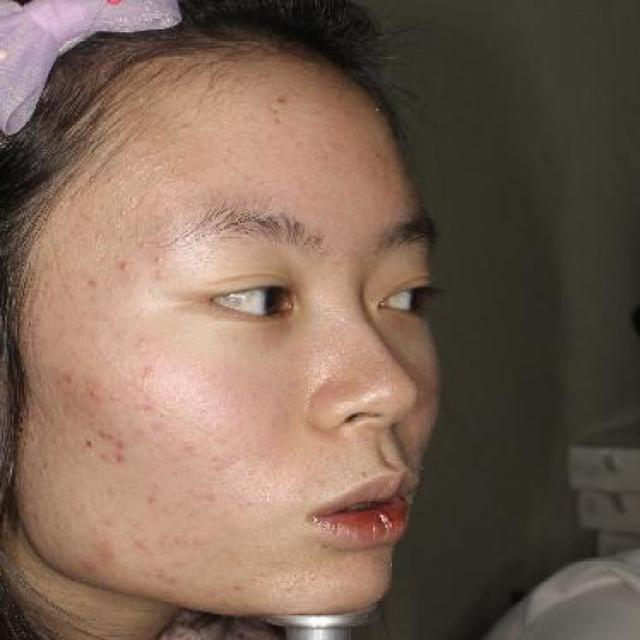darkspot: (99, 431, 116, 442), (112, 457, 128, 468), (114, 440, 133, 449), (92, 235, 107, 243)
nodules: (114, 256, 135, 276), (56, 369, 78, 388), (104, 388, 121, 408), (150, 272, 168, 283), (118, 205, 131, 220), (174, 154, 191, 163), (225, 167, 242, 176), (220, 147, 233, 156)
